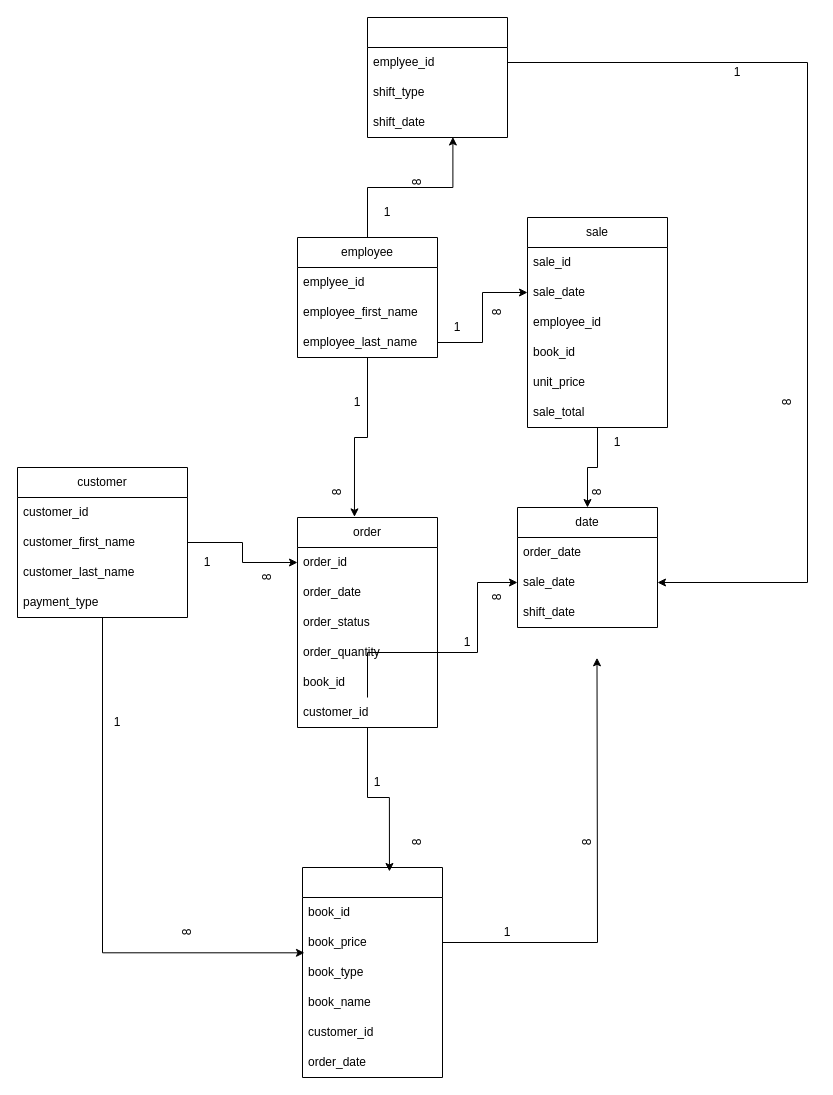
This 833x1095 diagram has some shape labels left out. The shapes that lost their labels are listed below. From the top down, each one's box as (x1, y1, x2, y2) in pixels, then its label:
(366, 16, 508, 138): employee shift
(302, 866, 442, 1078): book entities
